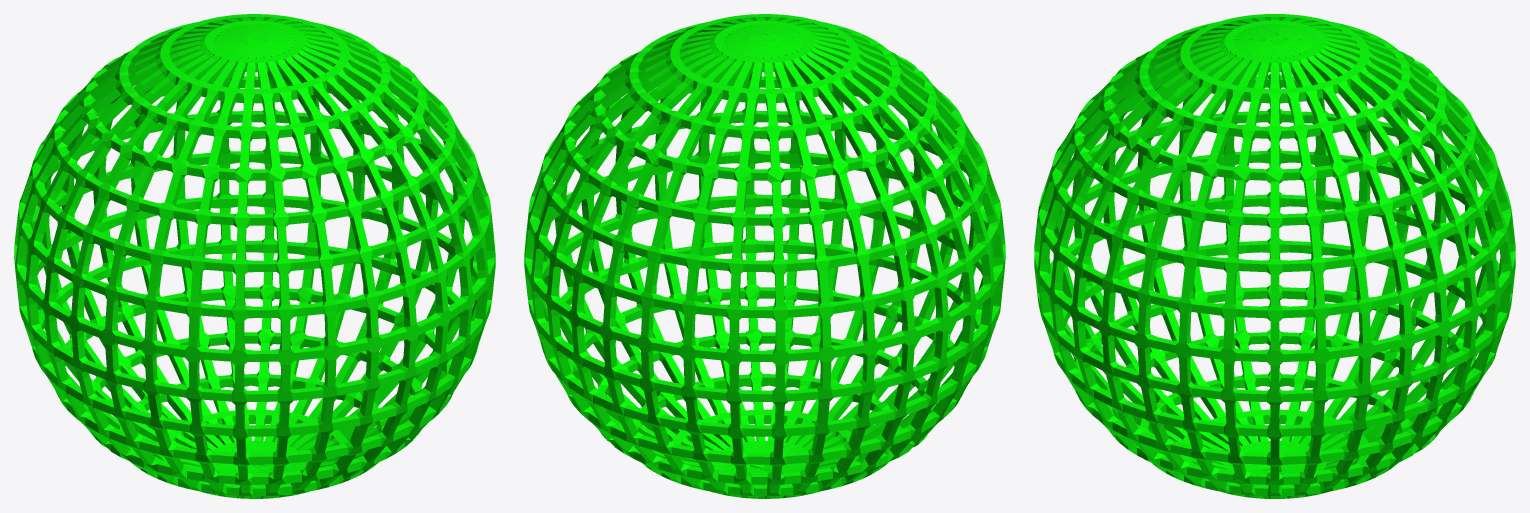
File: Bomb.fbx
3 renders of one model, left to right at view 1: azimuth 30°, elevation 25°; view 2: azimuth 150°, elevation 25°; view 3: azimuth 270°, elevation 25°, orthographic.
Parts seen in each view (by area): view 1: 球; view 2: 球; view 3: 球.
Part boxes in pixels (x1,y1,x2,y2): 球: [14, 14, 495, 498]; 球: [524, 14, 1005, 498]; 球: [1034, 14, 1515, 498].
Size of the model in its own units: 203 by 203 by 203.
